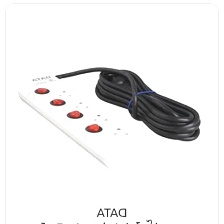three_eye_plug: (15, 70, 150, 173)
